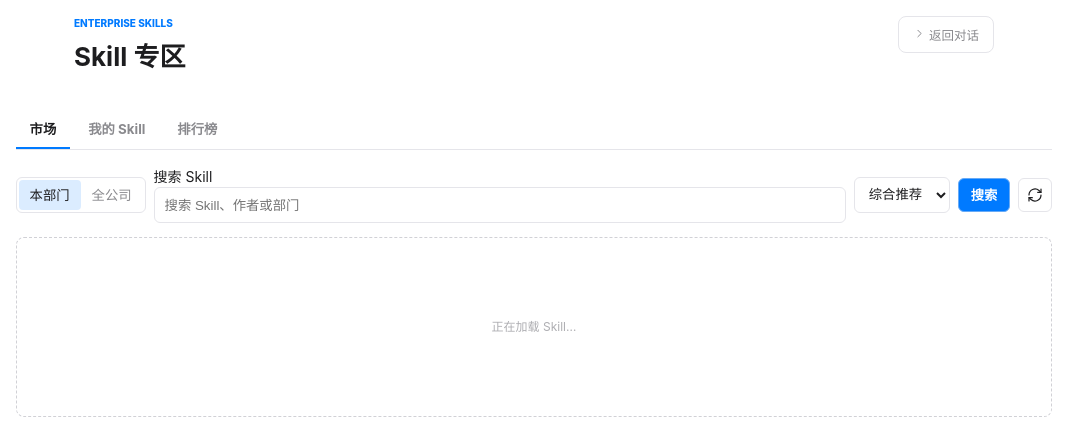
本机 Skill 已返回时不等待远端投稿记录再显示
The image size is (1069, 434).
Click the button "我的 Skill": x=117, y=129 top-left (74, 110), bottom-right (159, 149)
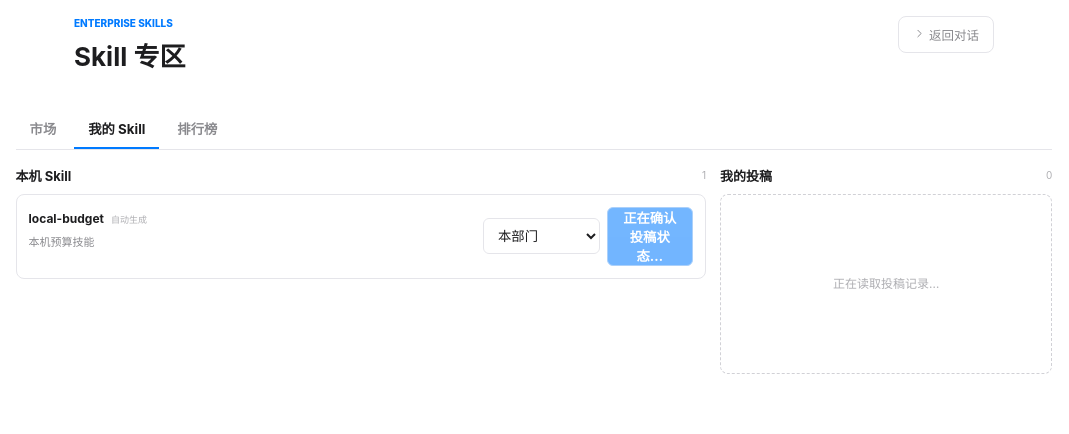
Expected: the text "local-budget" is shown, top-left (29, 210), bottom-right (104, 228)
